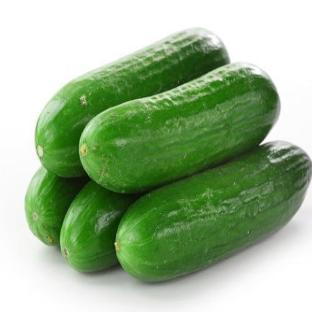Cucumber: (35, 29, 229, 176), (115, 142, 311, 281), (80, 64, 279, 192), (60, 182, 134, 271), (25, 168, 87, 245)
